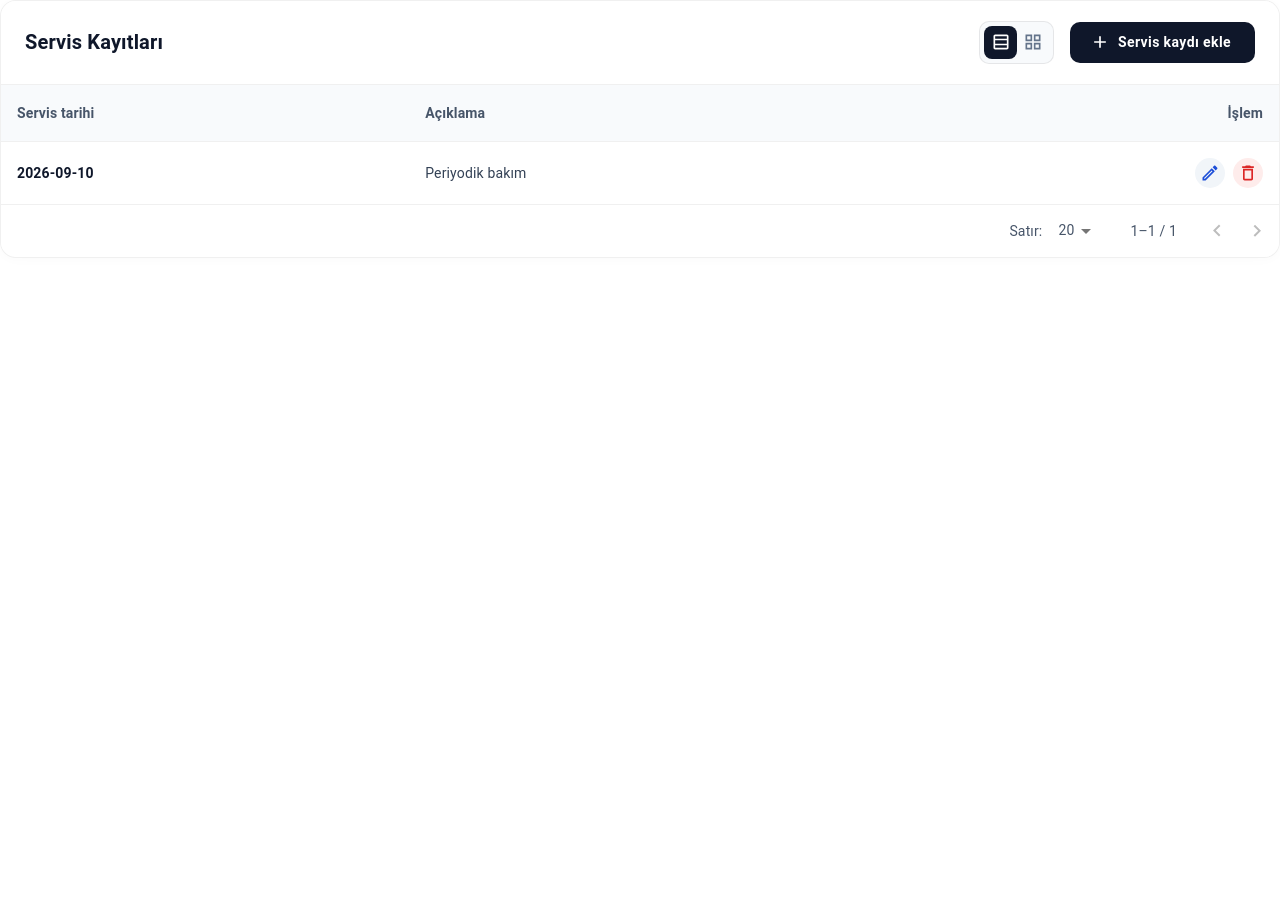
Test: ServiceSection › 403 sahiplik hatasını kullanıcıya gösterir
Click the button named "Sil".
click(1248, 173)  # box [1233,158,1263,188]
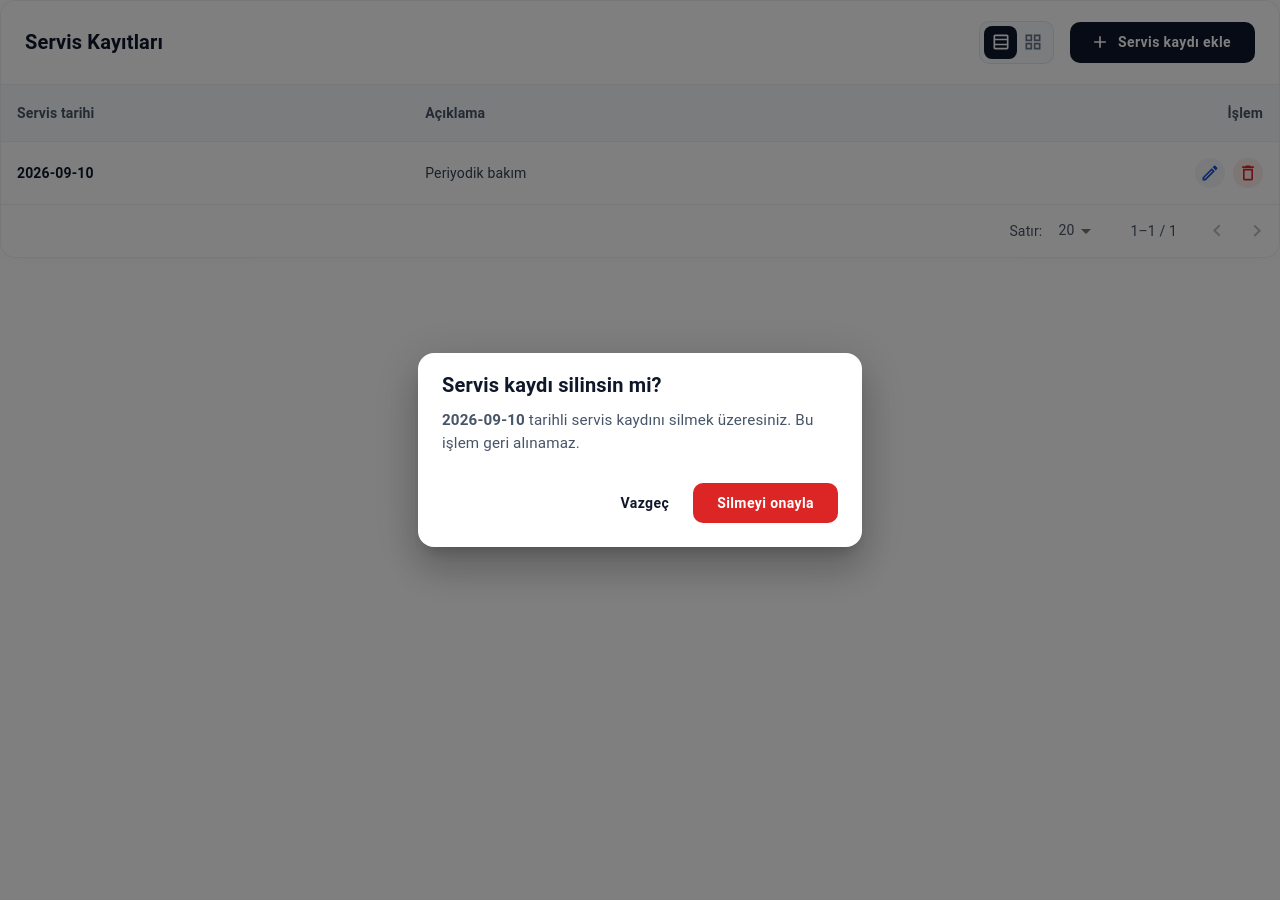
Click the button "Silmeyi onayla".
click(766, 503)  # box [693,482,838,523]
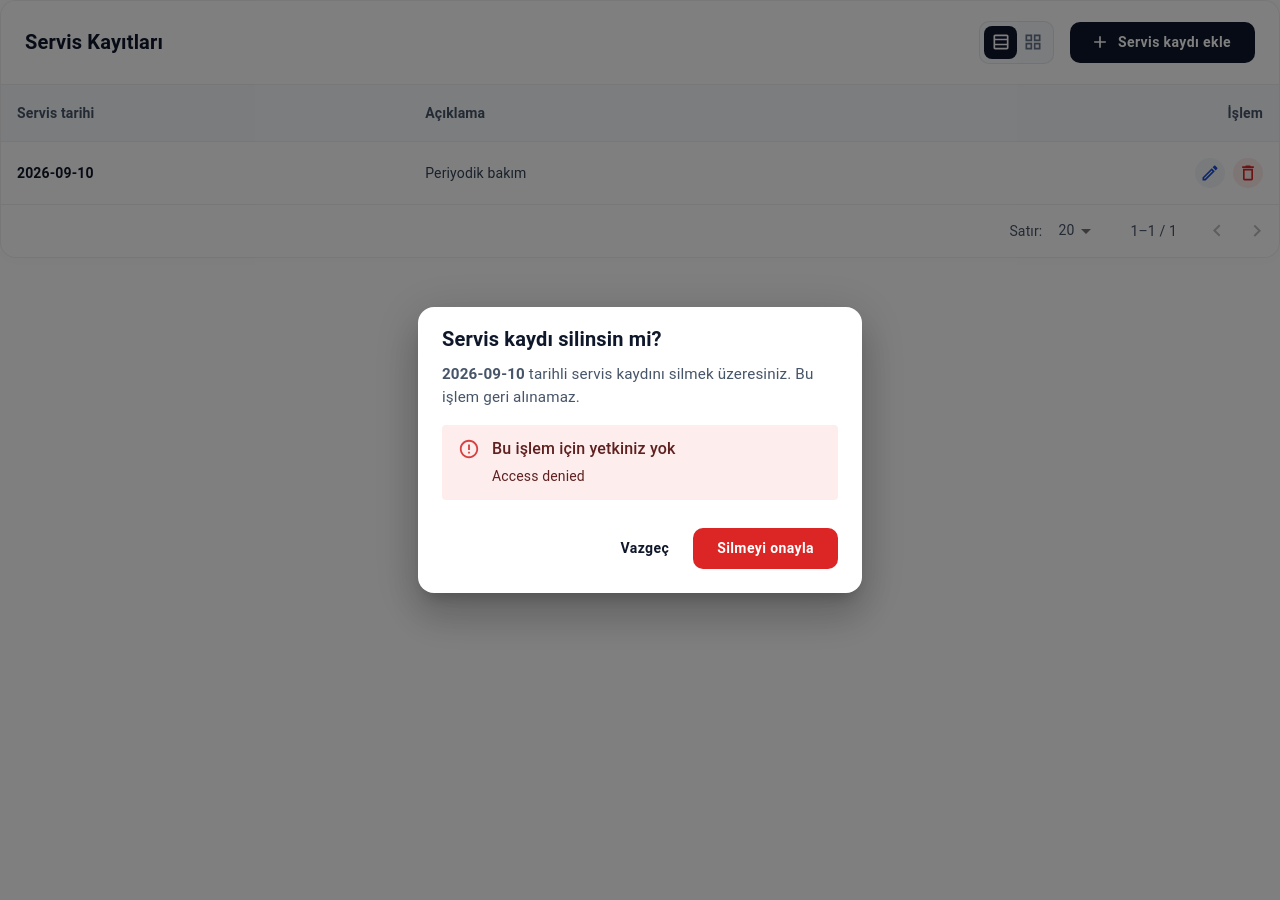
Expected: the heading "Servis kaydı silinsin mi?" is shown, [442,327,662,351]
Expected: the text "Bu işlem için yetkiniz yok" is shown, [492,437,676,461]
Expected: the text "Bu işlem için yetkiniz yok Access denied" is shown, [492,431,676,494]
